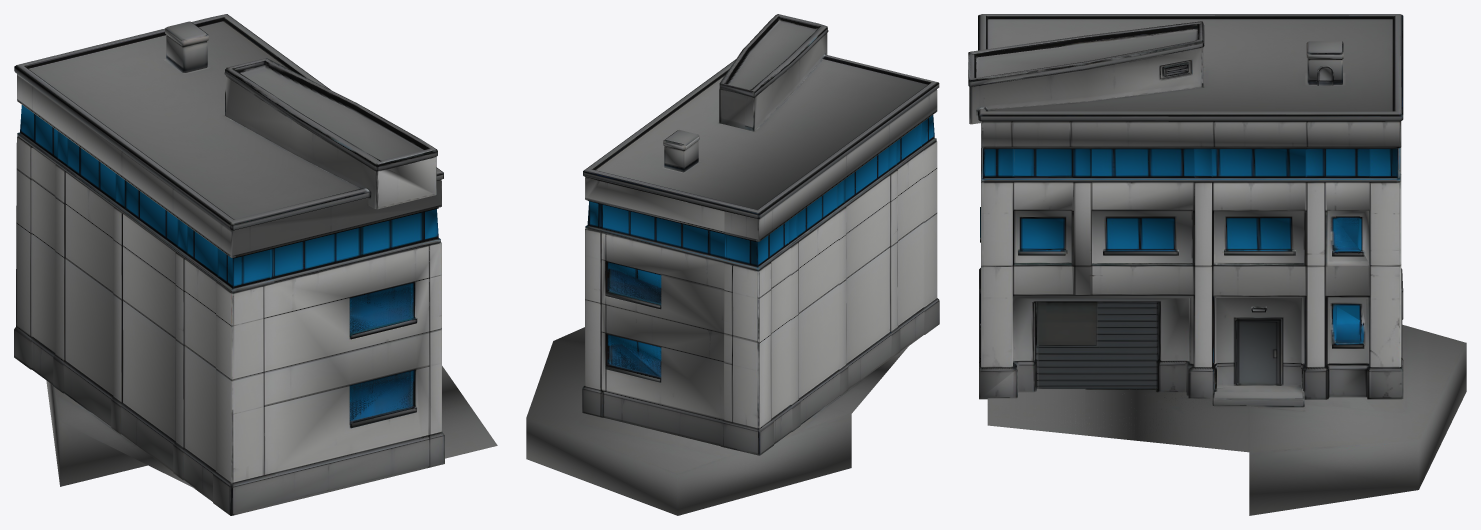
File: building.glb
The picture shows the model from 3 angles, left to right: view 1: azimuth 30°, elevation 25°; view 2: azimuth 150°, elevation 25°; view 3: azimuth 270°, elevation 25°; orthographic projection. The views are drawn at different scales.
Visible parts, largest first — view 1: tripo_node_72c1bebd-480a-4834-be45-2ef4065c7ba7; view 2: tripo_node_72c1bebd-480a-4834-be45-2ef4065c7ba7; view 3: tripo_node_72c1bebd-480a-4834-be45-2ef4065c7ba7.
Part boxes in pixels (left/top/right/bottom): tripo_node_72c1bebd-480a-4834-be45-2ef4065c7ba7: left=14, top=14, right=497, bottom=515; tripo_node_72c1bebd-480a-4834-be45-2ef4065c7ba7: left=526, top=14, right=939, bottom=515; tripo_node_72c1bebd-480a-4834-be45-2ef4065c7ba7: left=968, top=14, right=1466, bottom=515.
Size of the model in its own units: 8.12 by 8.67 by 10.
1 material, 1 textured.
